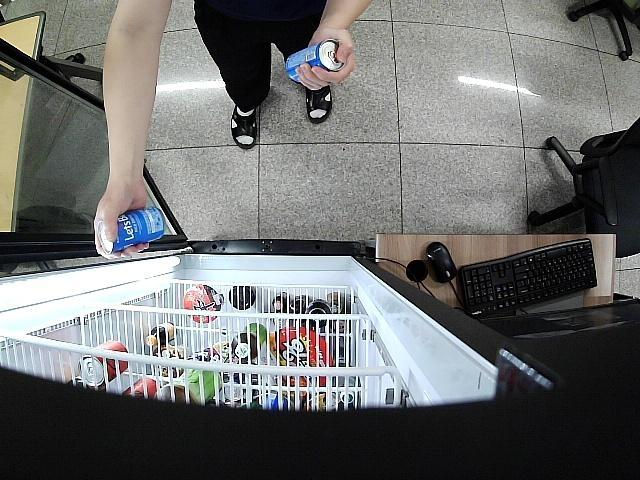15_letsbe: (98, 204, 166, 252), (285, 38, 344, 84)
